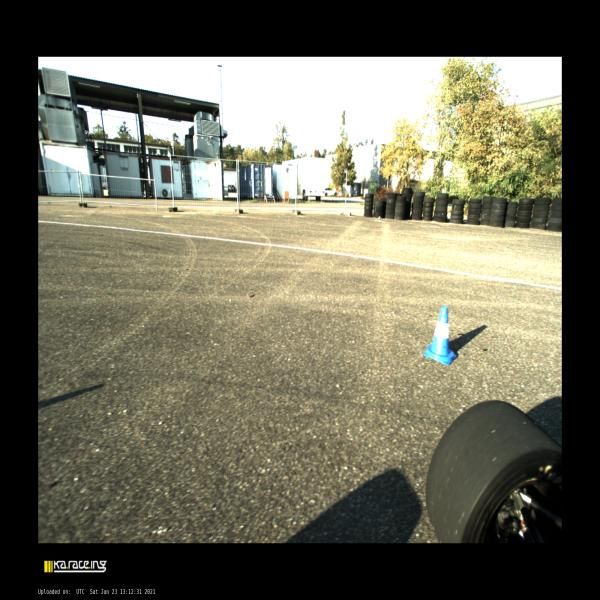blue_cone: (423, 306, 457, 365)
